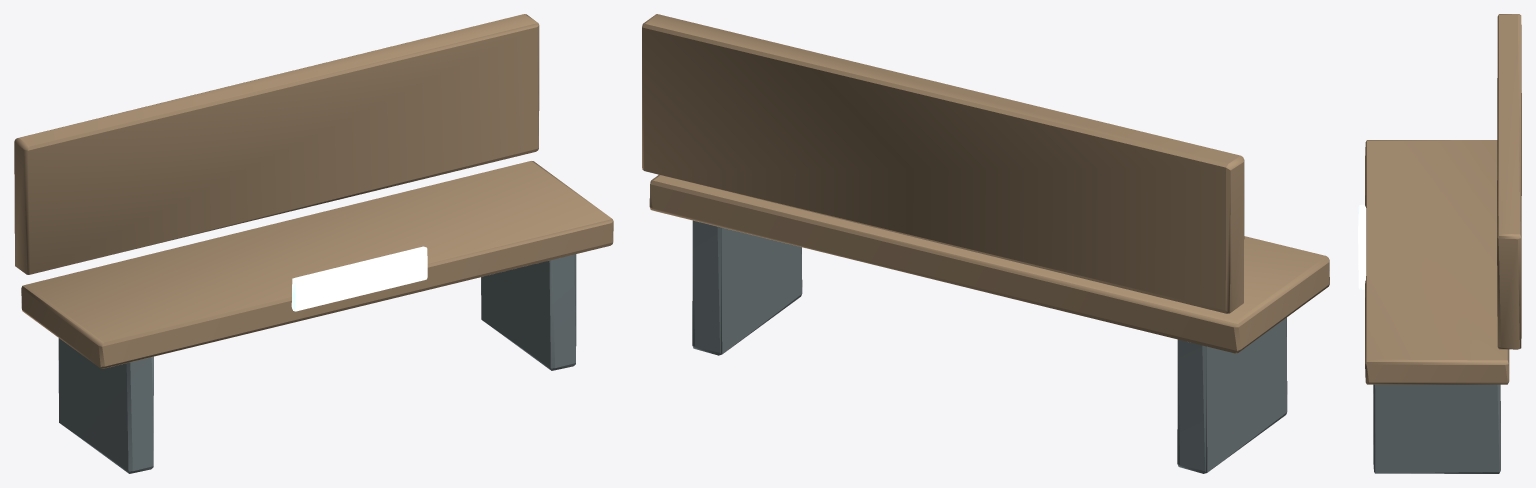
Rendered from SM_Kurpark_Bench_LOD1.fbx.
3 views of the same model, side by side, from view 1: azimuth 30°, elevation 25°; view 2: azimuth 150°, elevation 25°; view 3: azimuth 270°, elevation 25° (orthographic). The views are drawn at different scales.
Parts seen in each view (by area): view 1: SM_Kurpark_Bench_LOD1; view 2: SM_Kurpark_Bench_LOD1; view 3: SM_Kurpark_Bench_LOD1.
Boxes of the visible parts, bbox=[...] form: SM_Kurpark_Bench_LOD1: bbox=[14, 14, 613, 473]; SM_Kurpark_Bench_LOD1: bbox=[642, 14, 1329, 473]; SM_Kurpark_Bench_LOD1: bbox=[1358, 14, 1521, 473].
Size of the model in its own units: 1.9 by 1.01 by 0.59.
